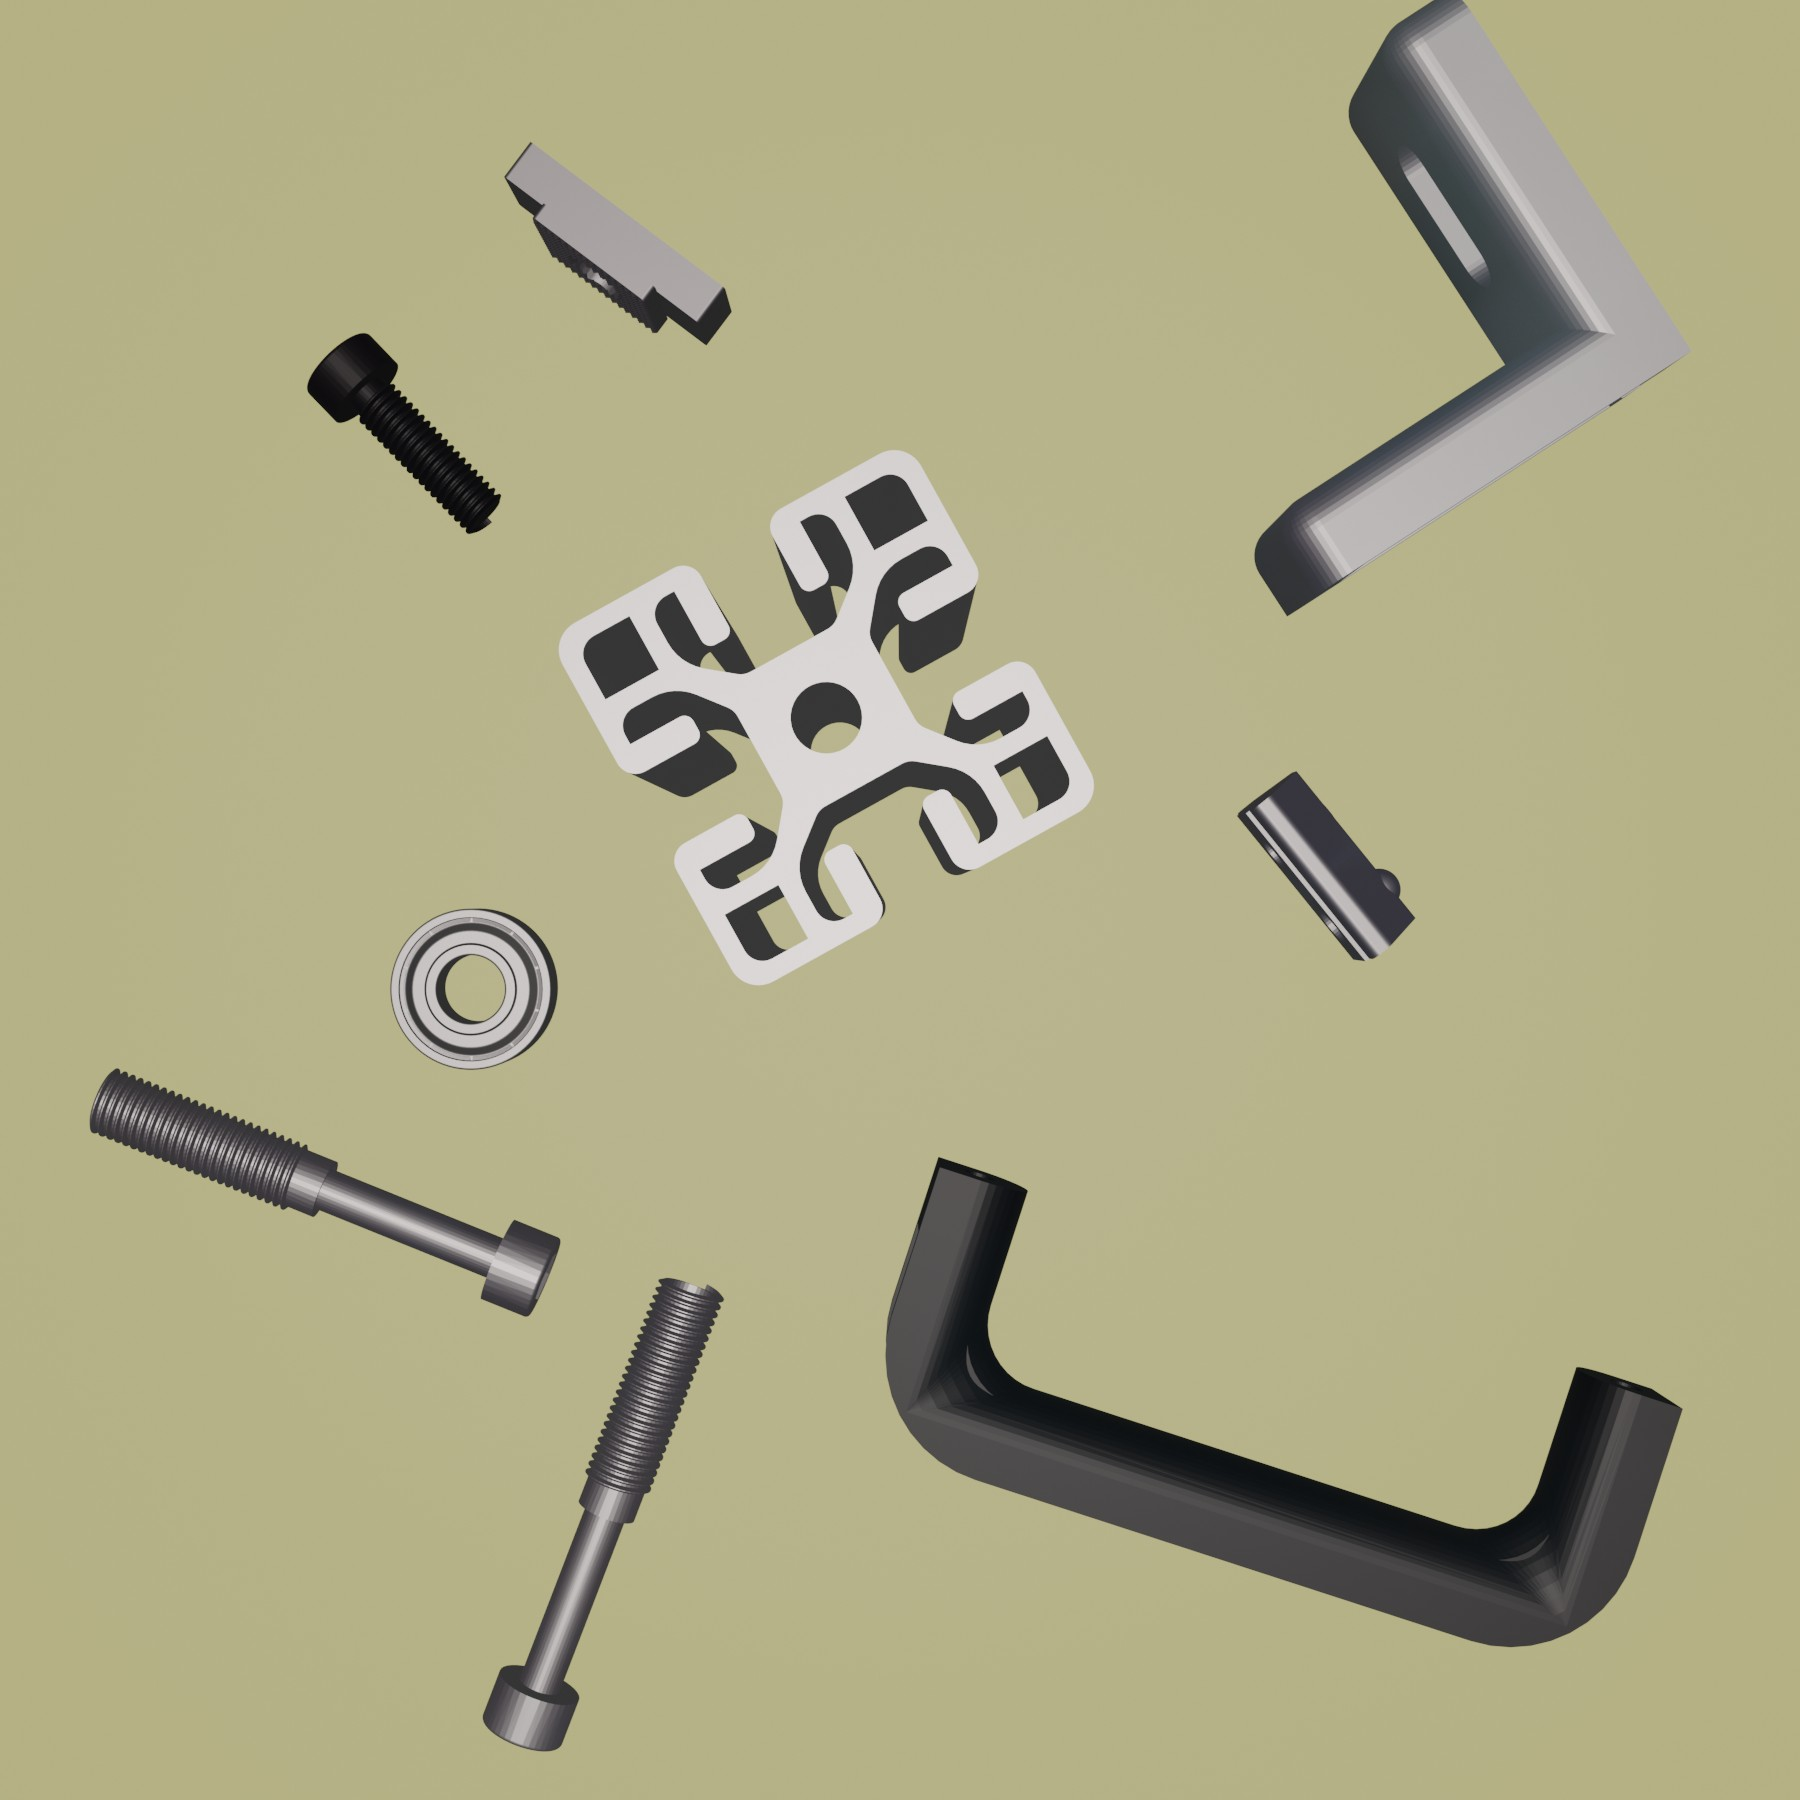Aluminium Extension: (555, 445, 1098, 989)
Ball Bearing: (386, 903, 559, 1073)
Multiwinkel: (1251, 2, 1695, 620)
Pull Handle: (884, 1157, 1686, 1650)
Shoulder Socket Head Cap Screw: (86, 1065, 562, 1320), (480, 1273, 724, 1754)
Socket Head Cap Screw: (302, 330, 504, 536)
T Nut Square: (501, 137, 735, 349)
T Spring Nut: (1233, 768, 1418, 964)
